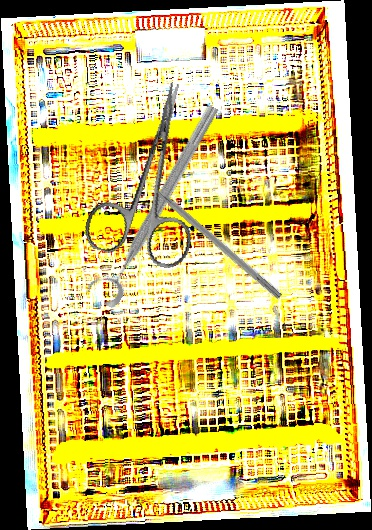Fixation Ring: (82, 95, 225, 310)
Iris Scissors: (80, 70, 231, 273)
Pusher: (131, 165, 285, 301)
